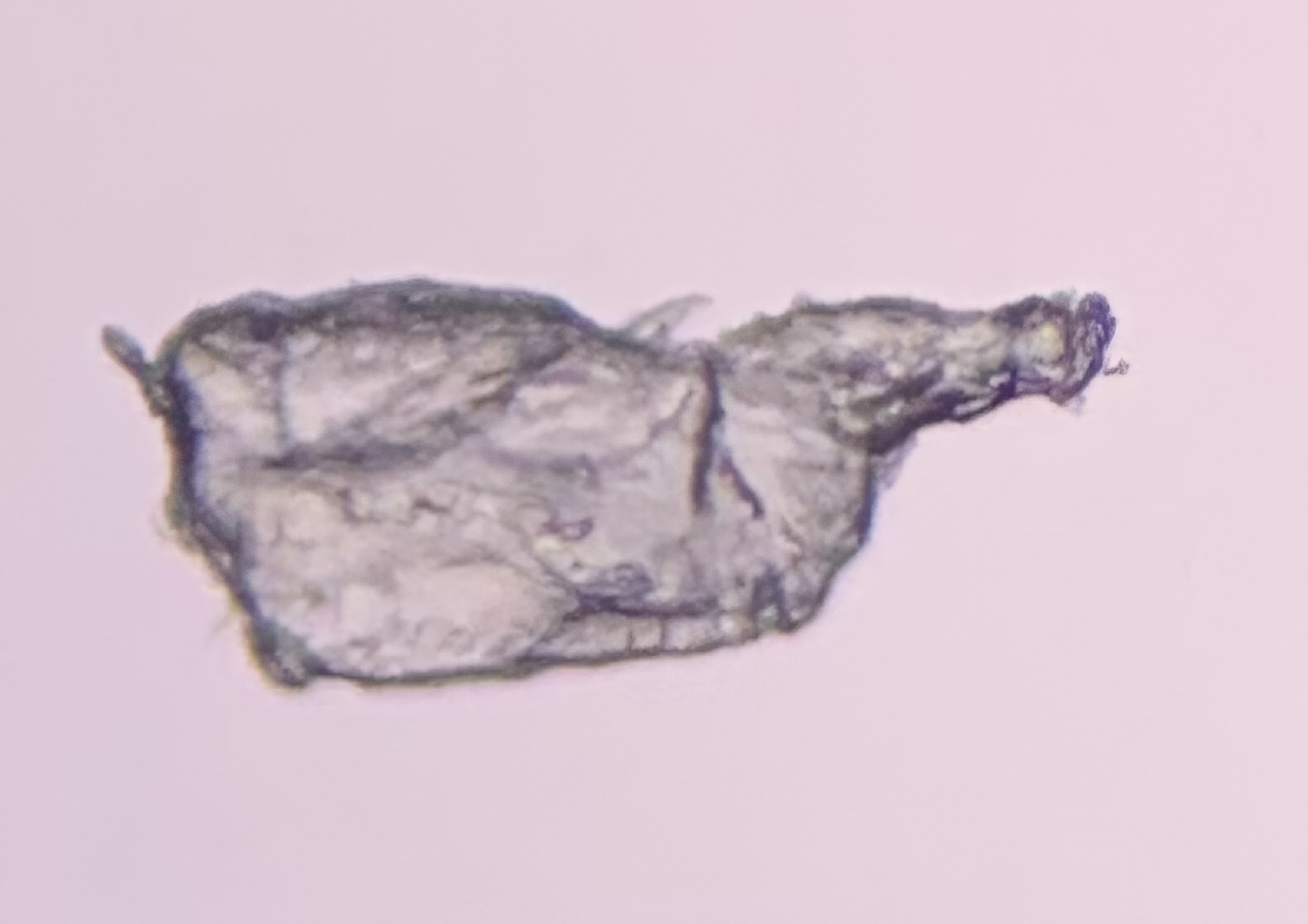microplastic: (99, 277, 1134, 695)
